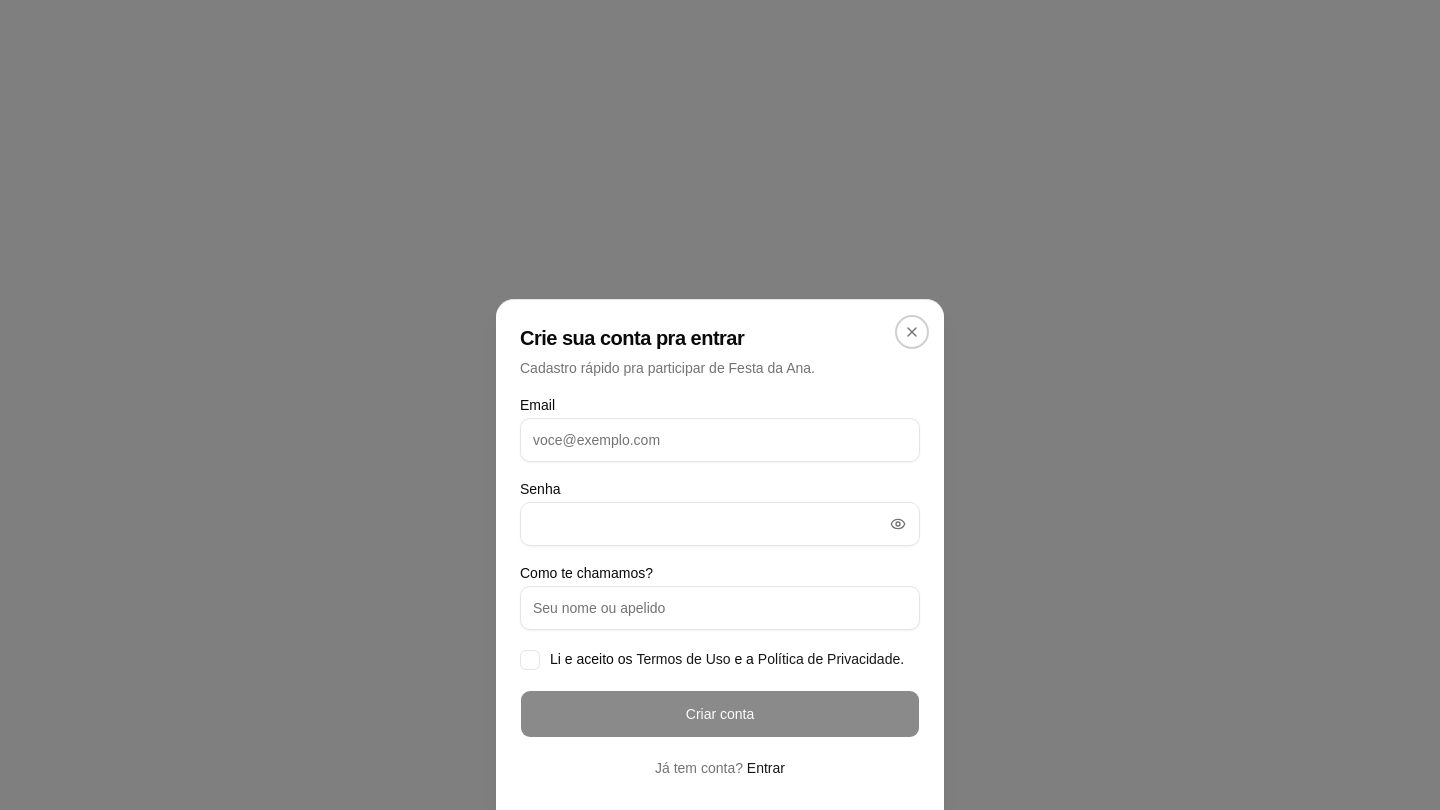
Test: GuestSignupSheet › alterna pra login e mostra o LoginForm
Click the button "Entrar" at x=766, y=768, box x1=747 y1=758 x2=785 y2=778
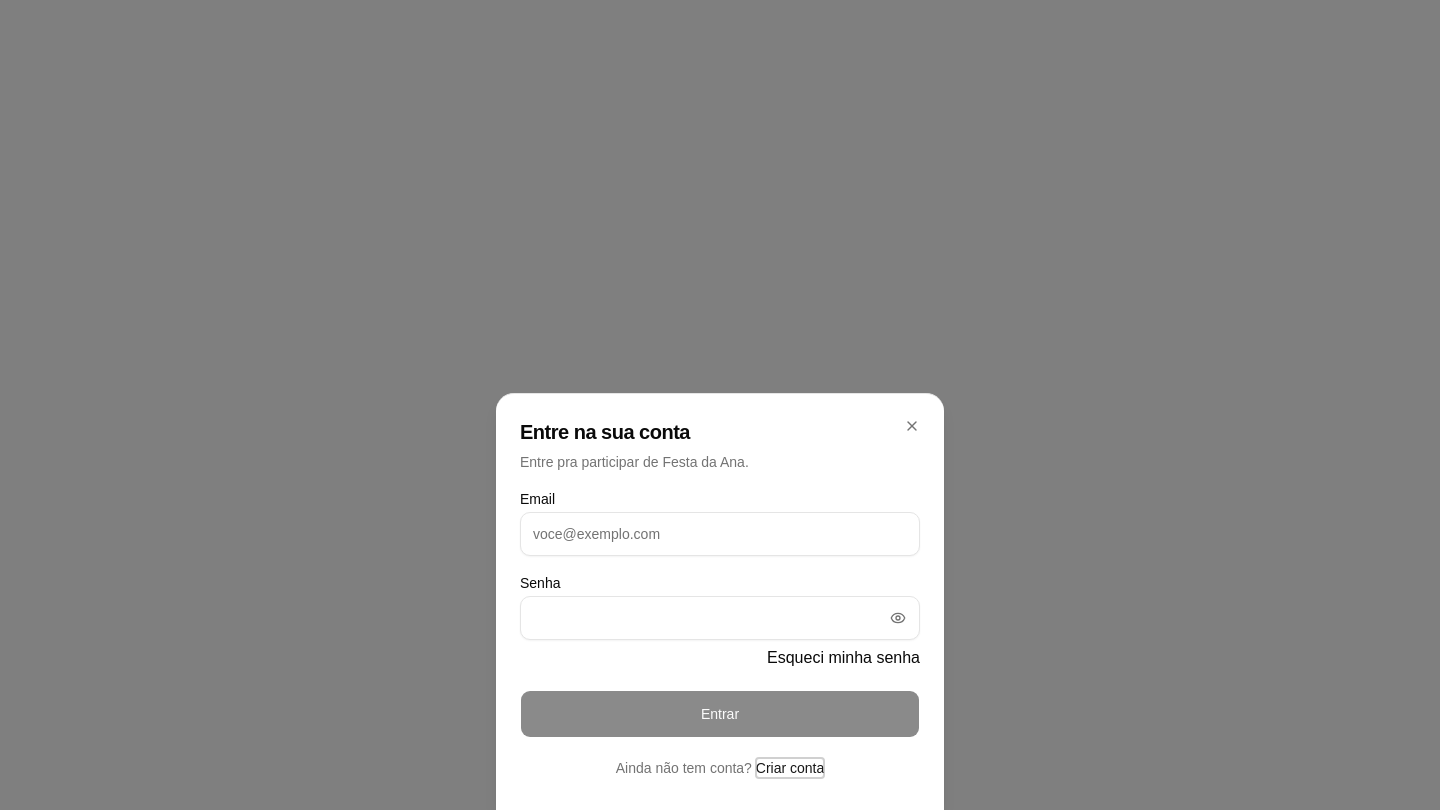
Expected: the heading "Entre na sua conta" is shown, x1=520 y1=421 x2=690 y2=443
Expected: the label labelled "Como te chamamos?" is gone
Expected: the button "Entrar" is shown, x1=520 y1=690 x2=920 y2=738
